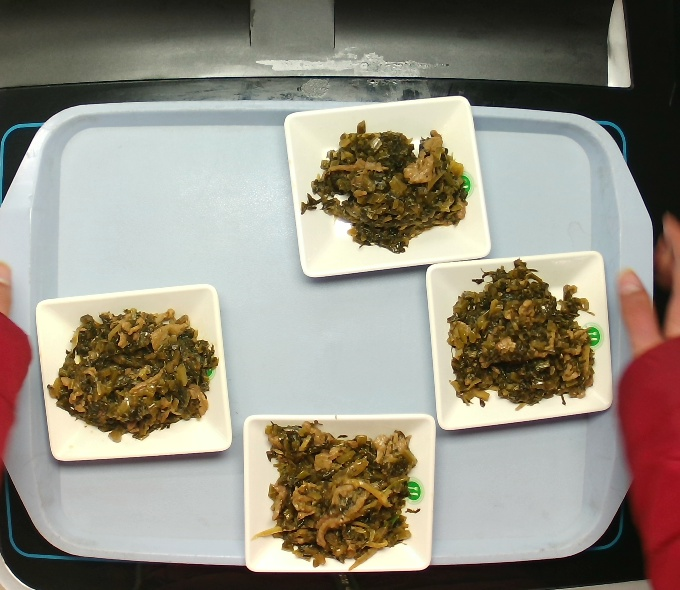wcq-XueCaiRouSi: (295, 108, 481, 262), (257, 409, 418, 569), (436, 260, 602, 404), (50, 302, 218, 443)
